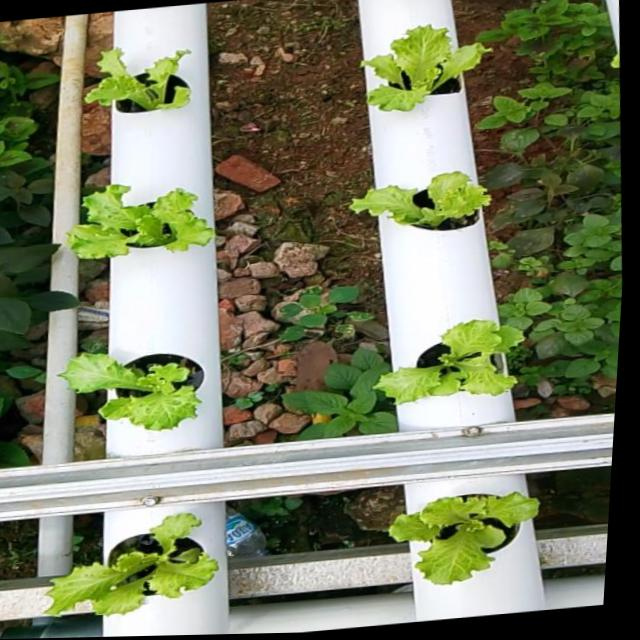Baby: (35, 507, 209, 610), (381, 474, 532, 584), (366, 317, 519, 403), (57, 352, 203, 431), (65, 183, 215, 259), (363, 24, 493, 110), (349, 171, 492, 231), (85, 47, 191, 112)
